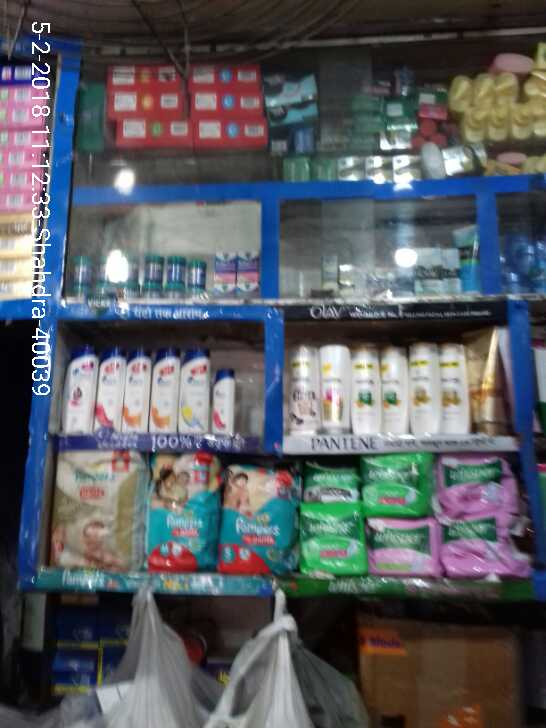vicks: (68, 249, 257, 303)
